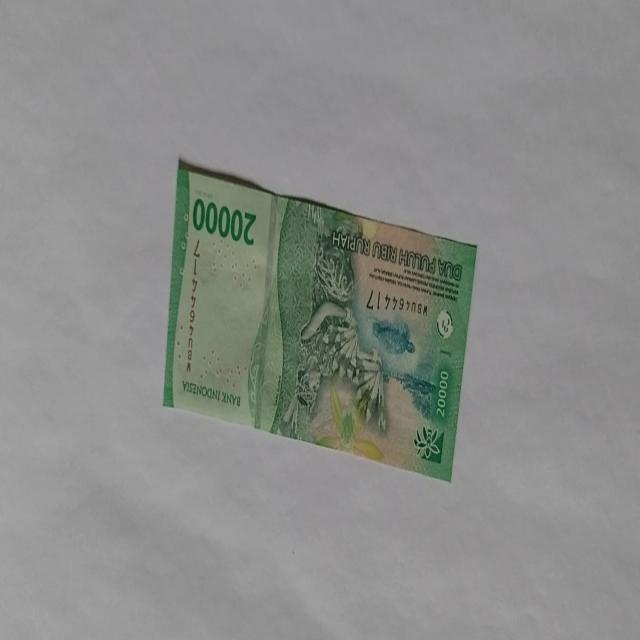dua puluh ribu rupiah: (162, 157, 478, 483), (247, 196, 389, 448)
